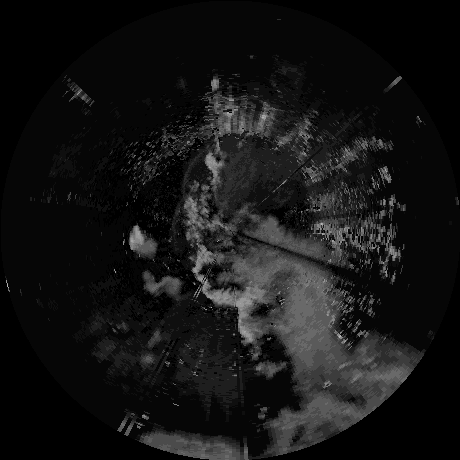frontgust: (179, 144, 209, 199), (170, 203, 183, 257)
